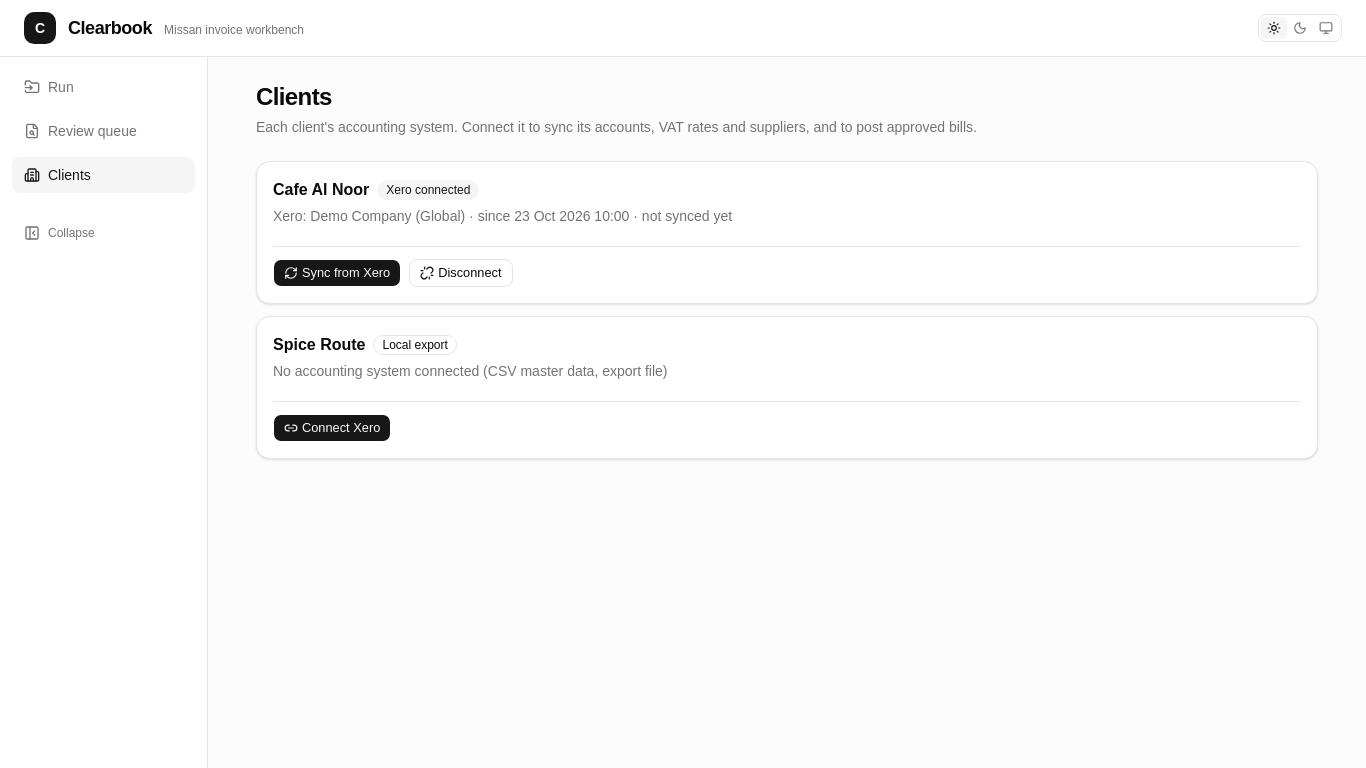
Test: clients › disconnects after asking
Click the button "Disconnect": (461, 273) top-left (409, 259), bottom-right (512, 287)
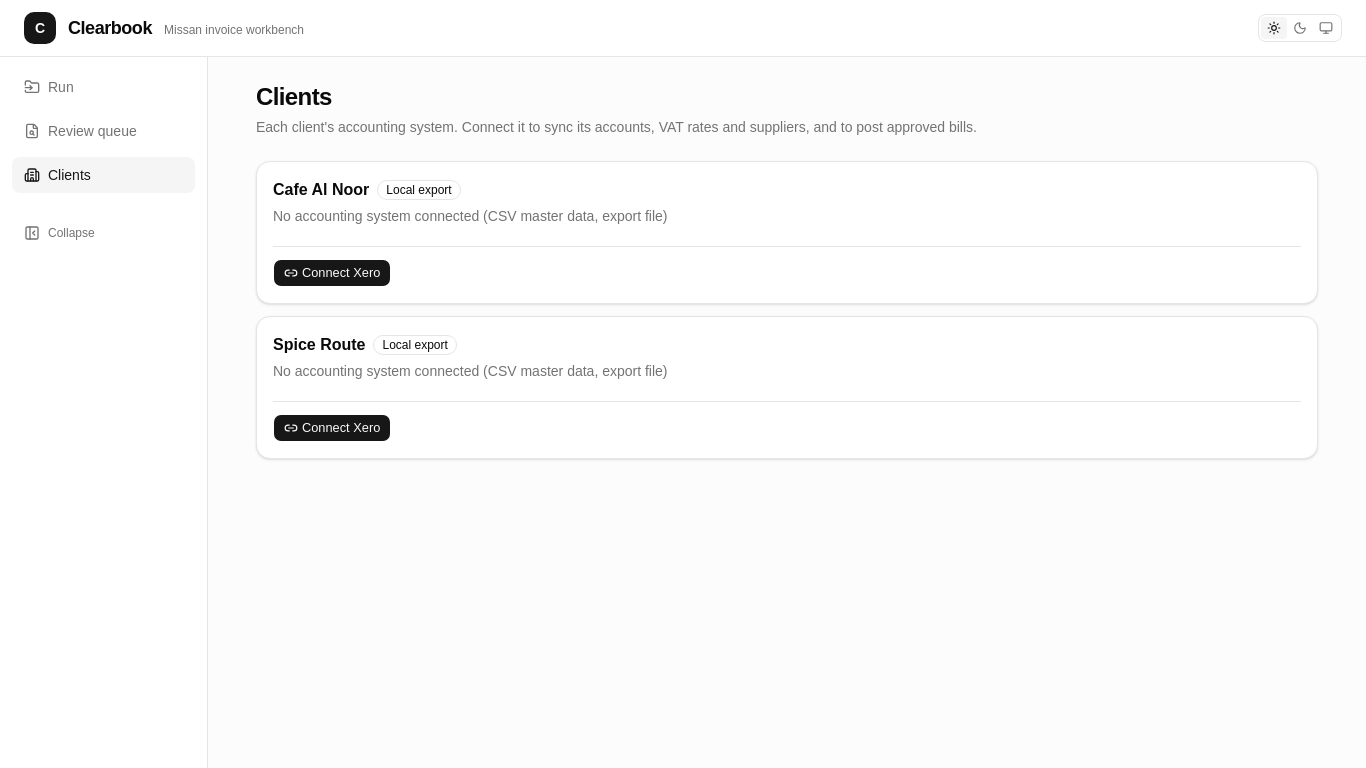
Check: the link "Connect Xero" below "Cafe Al Noor" is shown, box top-left (273, 259), bottom-right (391, 287)
